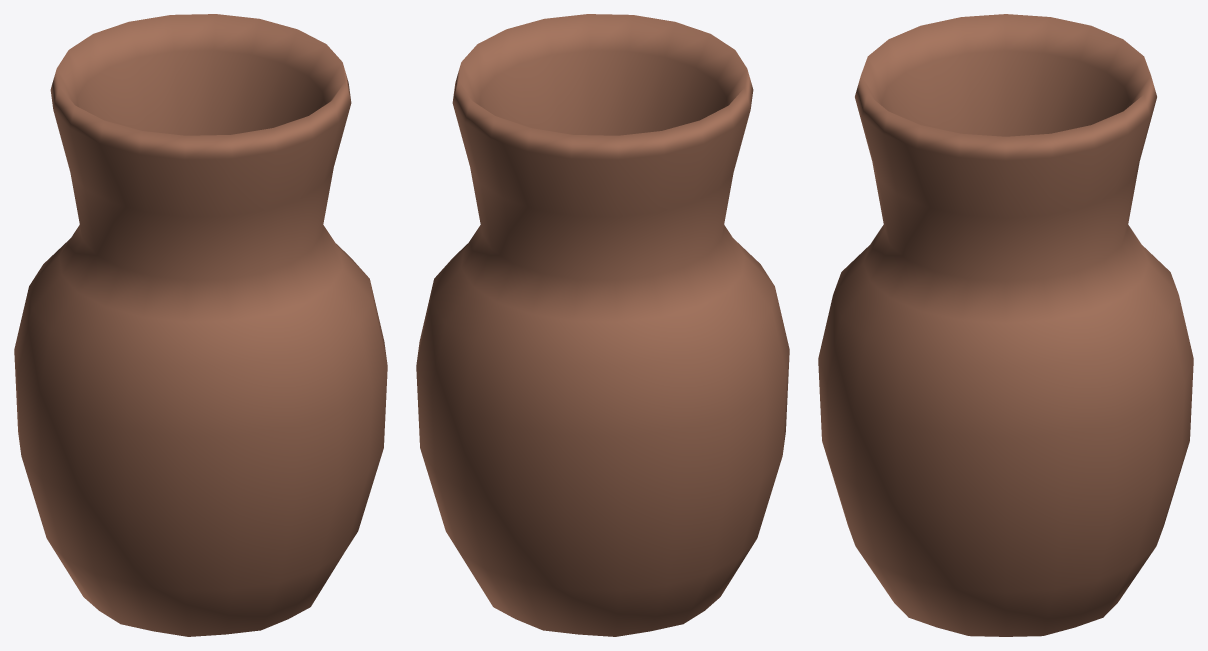
The model's file is Poterie3.fbx.
The picture shows the model from 3 angles, left to right: view 1: azimuth 30°, elevation 25°; view 2: azimuth 150°, elevation 25°; view 3: azimuth 270°, elevation 25°; orthographic projection.
Parts seen in each view (by area): view 1: polySurface37; view 2: polySurface37; view 3: polySurface37.
Part boxes in pixels (bbox=[...]): polySurface37: bbox=[14, 14, 387, 636]; polySurface37: bbox=[416, 14, 789, 636]; polySurface37: bbox=[818, 14, 1193, 636].
Bounding box in the file's own units: 0.2243 × 0.3468 × 0.224.
